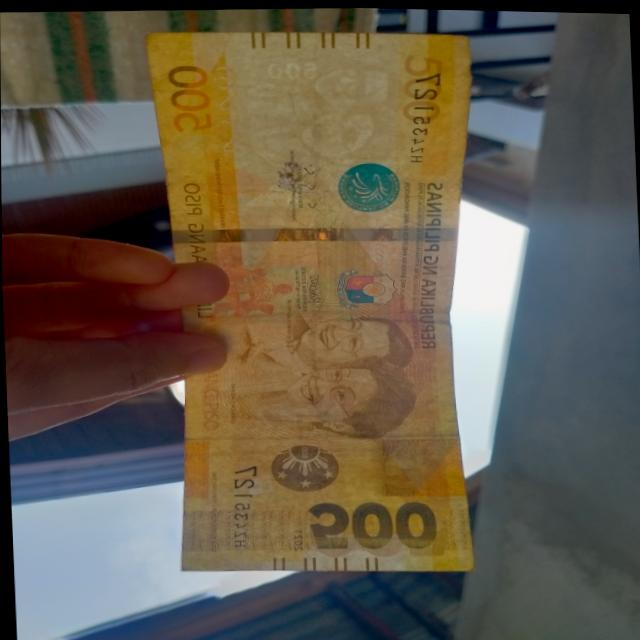concealed_value: (377, 430, 462, 500)
optically_variable_device: (255, 429, 353, 501)
security_thread: (162, 218, 451, 252)
see_through_mark: (211, 59, 244, 158)
serial_number: (392, 63, 447, 168), (217, 455, 265, 553)
value_watermark: (254, 54, 323, 83)
watermark: (223, 56, 402, 182)
